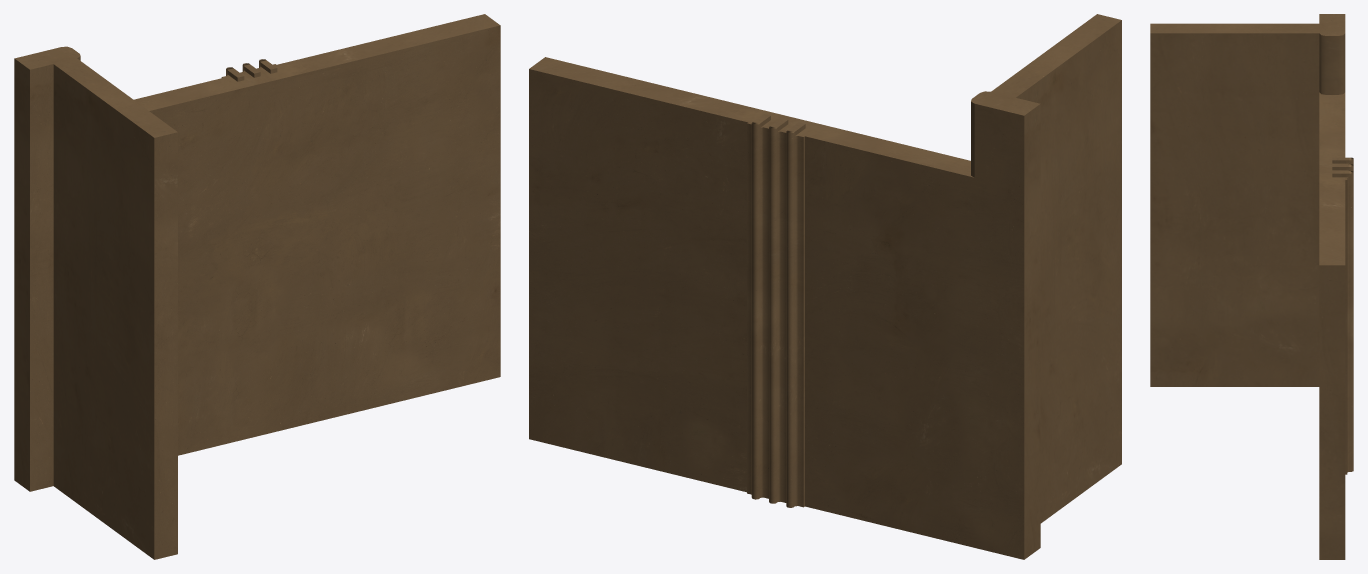
Rendered from SM_Building02WallRoof02_LR.fbx.
3 renders of one model, left to right at view 1: azimuth 30°, elevation 25°; view 2: azimuth 150°, elevation 25°; view 3: azimuth 270°, elevation 25°, orthographic. The views are drawn at different scales.
Visible parts, largest first — view 1: SM_Building02WallRoof02_LR_LOD0; view 2: SM_Building02WallRoof02_LR_LOD0; view 3: SM_Building02WallRoof02_LR_LOD0.
Part boxes in pixels (box(x1,y1,x2,y2)): SM_Building02WallRoof02_LR_LOD0: box(14, 14, 500, 559); SM_Building02WallRoof02_LR_LOD0: box(529, 14, 1121, 559); SM_Building02WallRoof02_LR_LOD0: box(1150, 14, 1353, 559).
Size of the model in its own units: 350 by 156 by 300.
Materials: 2 (2 with a texture image).
